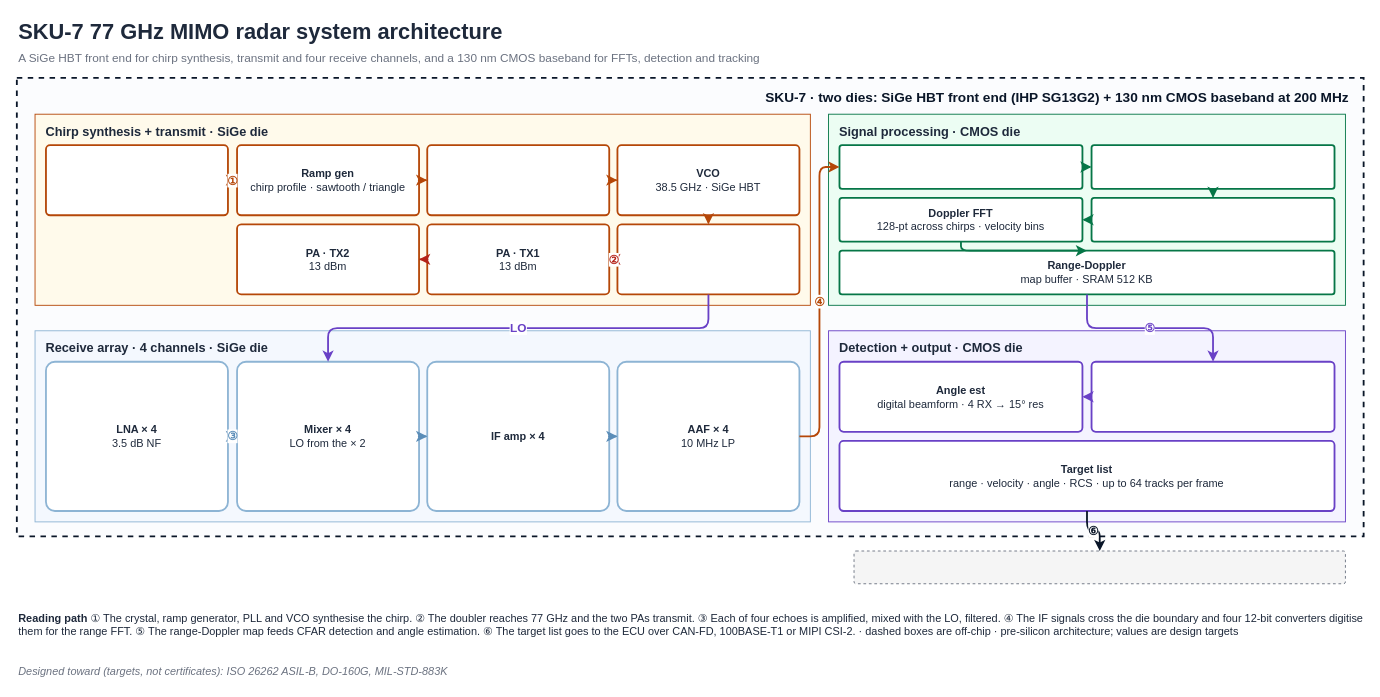
The diagram is 1380 pixels wide and 697 high, and some of its shapes have lost their labels. Here are the shapes that lost their labels. From the top down, the centre of each, then its label:
the point at 136,180: XTAL 40 MHz
the point at 518,180: PLL fractional-N · 1 MHz loop BW
the point at 960,166: ADC × 4 12-bit · 40 MSPS
the point at 1212,166: Windowing Hann / Blackman
the point at 1212,219: Range FFT 1024-pt radix-4 · 26 µs per chirp
the point at 708,259: × 2 77 GHz
the point at 1212,396: CFAR cell-averaging · constant false-alarm
the point at 1099,567: To the ECU · CAN-FD · 100BASE-T1 · MIPI CSI-2
